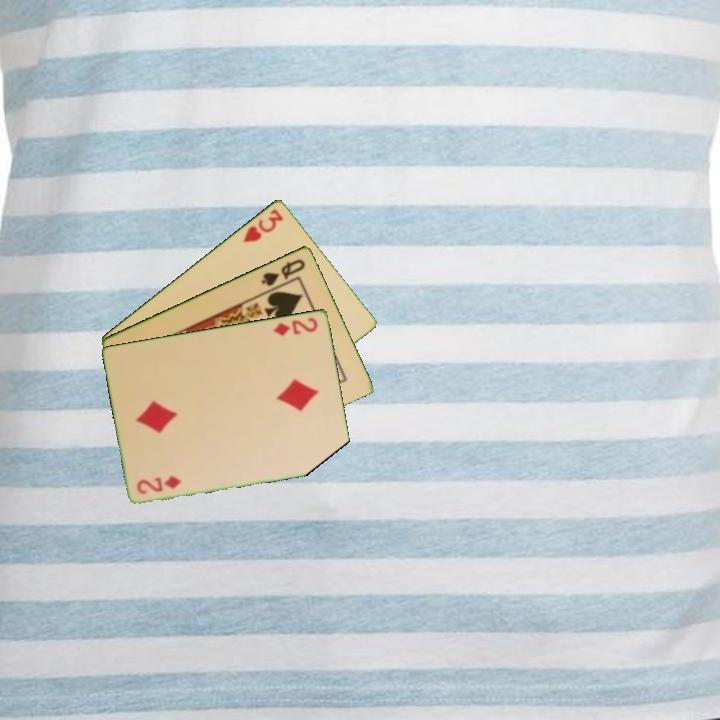2d: (270, 313, 321, 338), (133, 472, 184, 497)
3h: (240, 205, 286, 245)
Qs: (257, 255, 308, 289)
